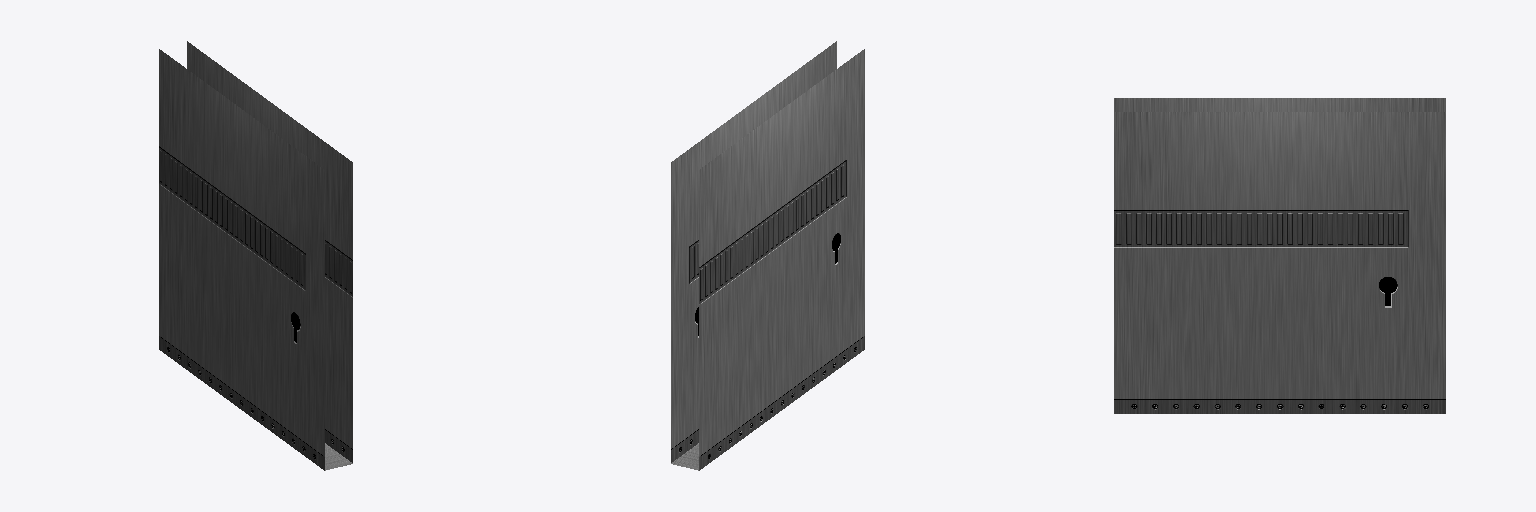
3 renders of one model, left to right at view 1: azimuth 30°, elevation 25°; view 2: azimuth 150°, elevation 25°; view 3: azimuth 270°, elevation 25°, orthographic.
Size of the model in its own units: 0.1 by 1 by 1.
Materials: 1 (1 with a texture image).